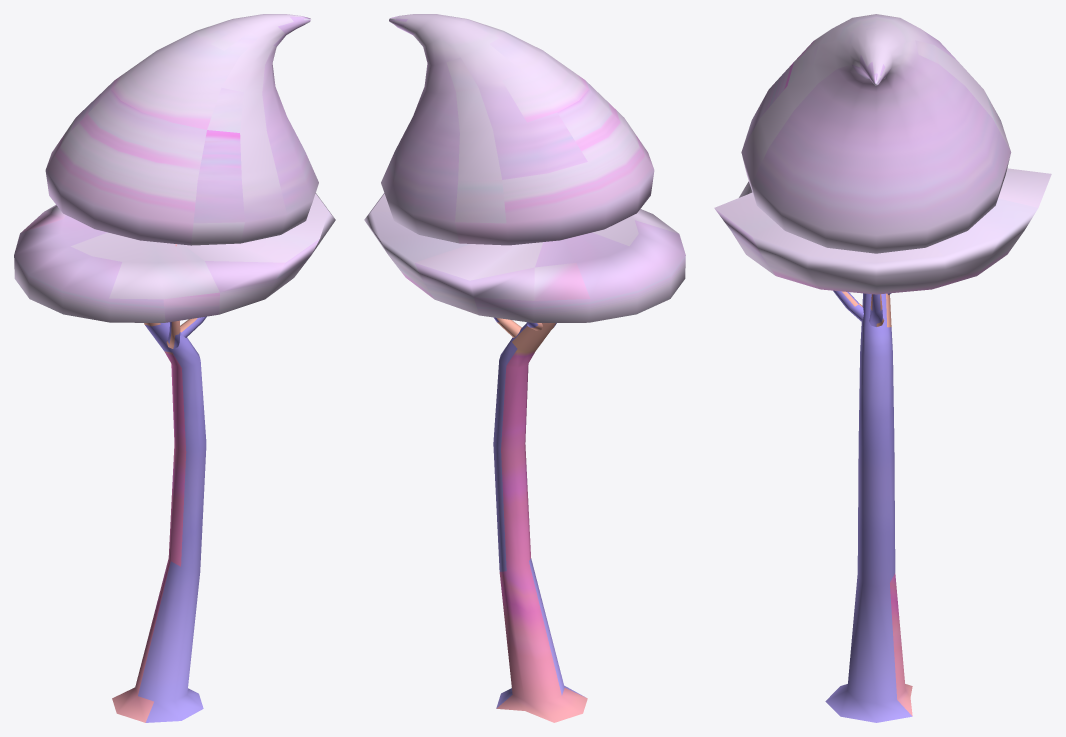
Rendered from grande_seta04.fbx.
3 renders of one model, left to right at view 1: azimuth 30°, elevation 25°; view 2: azimuth 150°, elevation 25°; view 3: azimuth 270°, elevation 25°, orthographic. The views are drawn at different scales.
Parts seen in each view (by area): view 1: SetaXL_04; view 2: SetaXL_04; view 3: SetaXL_04.
Part boxes in pixels (x1,y1,x2,y2): SetaXL_04: [14, 14, 335, 722]; SetaXL_04: [364, 14, 685, 722]; SetaXL_04: [714, 14, 1051, 722].
Bounding box in the file's own units: 5884 × 12942 × 5548.
1 material, 1 textured.
